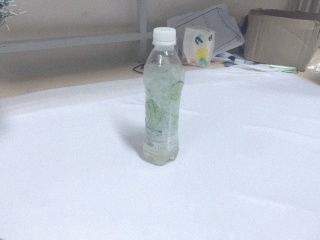bottle: (142, 27, 186, 166)
box: (244, 8, 320, 73)
